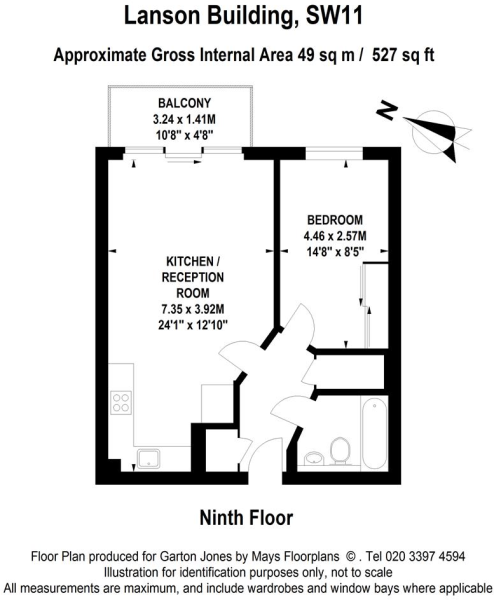GrossArea: (50, 44, 441, 67)
